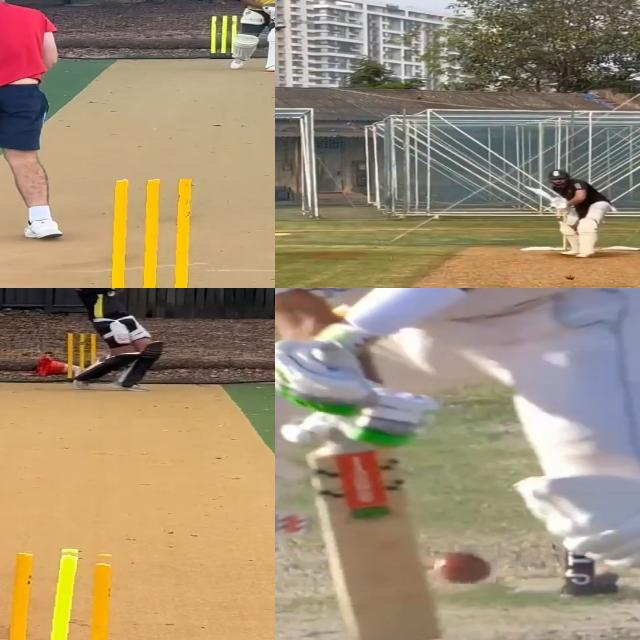Cricket ball: (434, 545, 498, 584), (565, 274, 574, 280)
Stumps: (100, 178, 214, 288), (0, 546, 129, 640)
